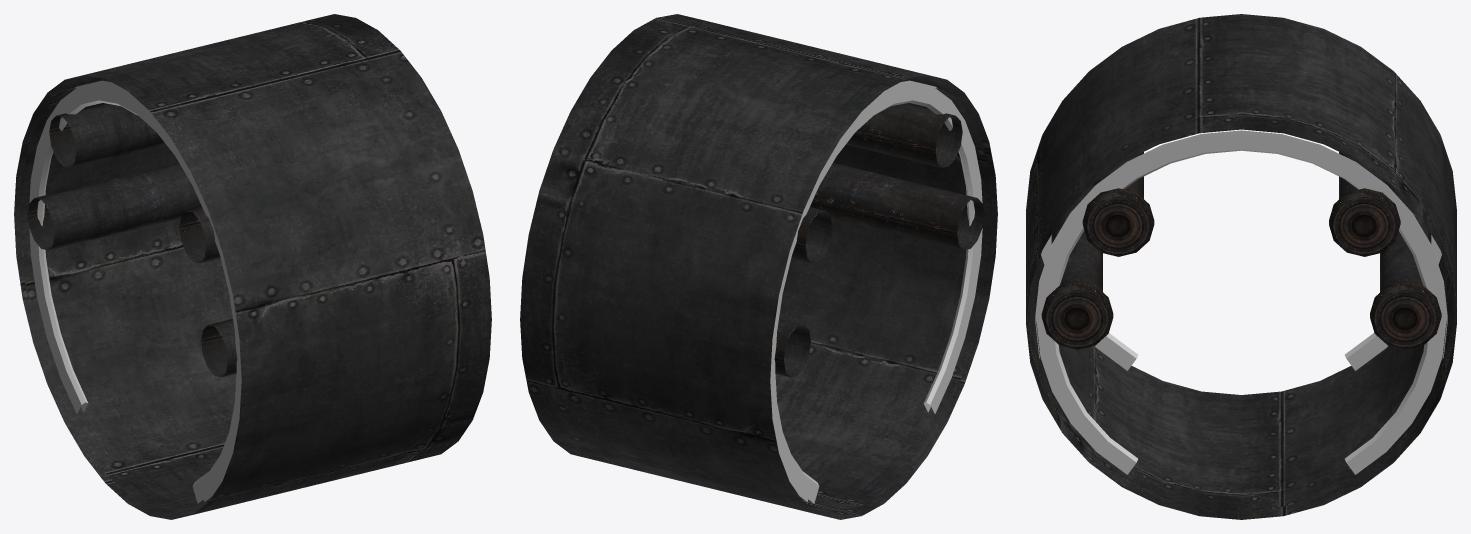
Rendered from engineroom_largepipe_short.dae.
3 renders of one model, left to right at view 1: azimuth 30°, elevation 25°; view 2: azimuth 150°, elevation 25°; view 3: azimuth 270°, elevation 25°, orthographic. The views are drawn at different scales.
Visible parts, largest first — view 1: pCylinder1, polySurface84, pipe_straight_ribs4; view 2: pCylinder1, polySurface84, pipe_straight_ribs4; view 3: pCylinder1, polySurface84, pipe_straight_ribs4.
Part boxes in pixels (x1=…): pCylinder1: x1=14, y1=14, x2=491, y2=519; polySurface84: x1=27, y1=103, x2=237, y2=377; pipe_straight_ribs4: x1=29, y1=80, x2=241, y2=503; pCylinder1: x1=520, y1=14, x2=997, y2=519; polySurface84: x1=774, y1=103, x2=984, y2=377; pipe_straight_ribs4: x1=770, y1=80, x2=982, y2=503; pCylinder1: x1=1026, y1=14, x2=1456, y2=519; polySurface84: x1=1041, y1=152, x2=1441, y2=349; pipe_straight_ribs4: x1=1035, y1=130, x2=1447, y2=474.
Bounding box in the file's own units: 206 × 315 × 315.
